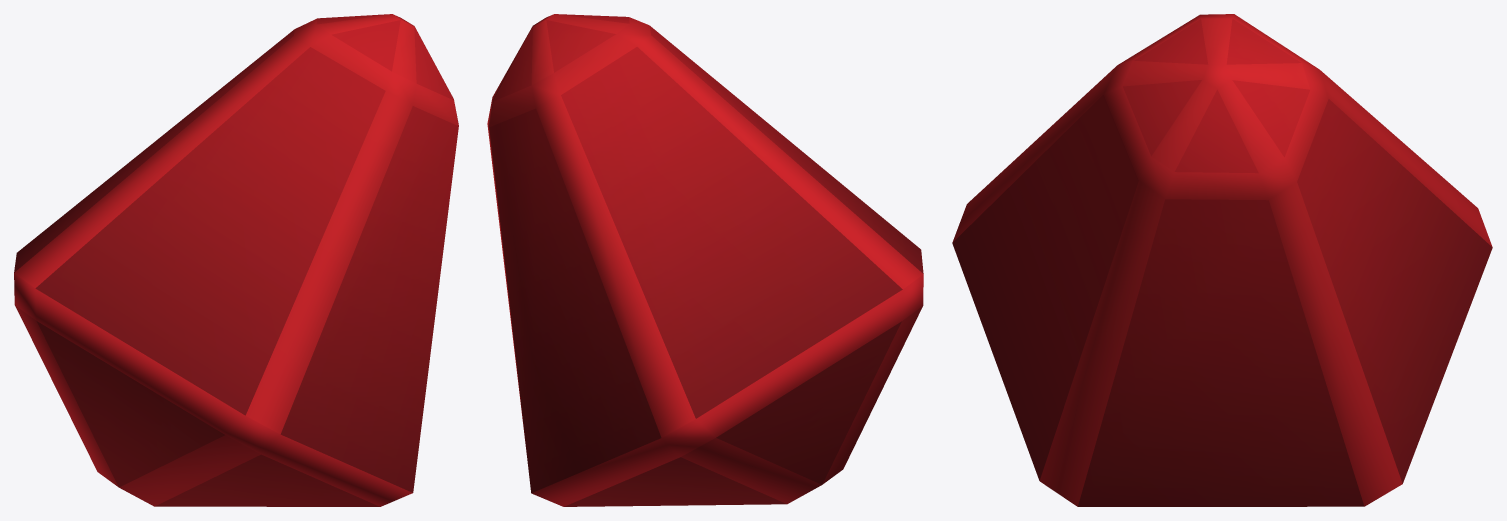
File: christal_ruby_7.fbx
3 views of the same model, side by side, from view 1: azimuth 30°, elevation 25°; view 2: azimuth 150°, elevation 25°; view 3: azimuth 270°, elevation 25° (orthographic). The views are drawn at different scales.
Parts seen in each view (by area): view 1: christal_ruby_7; view 2: christal_ruby_7; view 3: christal_ruby_7.
Part boxes in pixels (box(x1,y1,x2,y2)): christal_ruby_7: box(14, 14, 458, 506); christal_ruby_7: box(487, 14, 923, 506); christal_ruby_7: box(952, 14, 1492, 506).
Bounding box in the file's own units: 47.99 × 48.58 × 48.9.
Materials: 1 (1 with a texture image).
